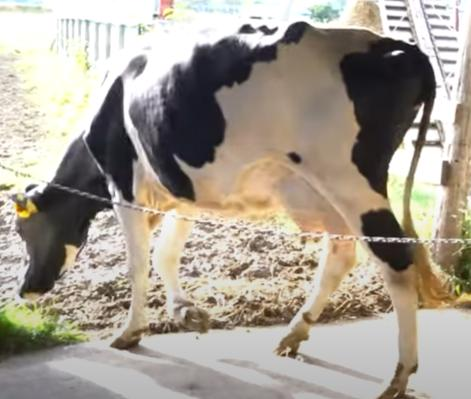cow: (0, 21, 456, 399)
